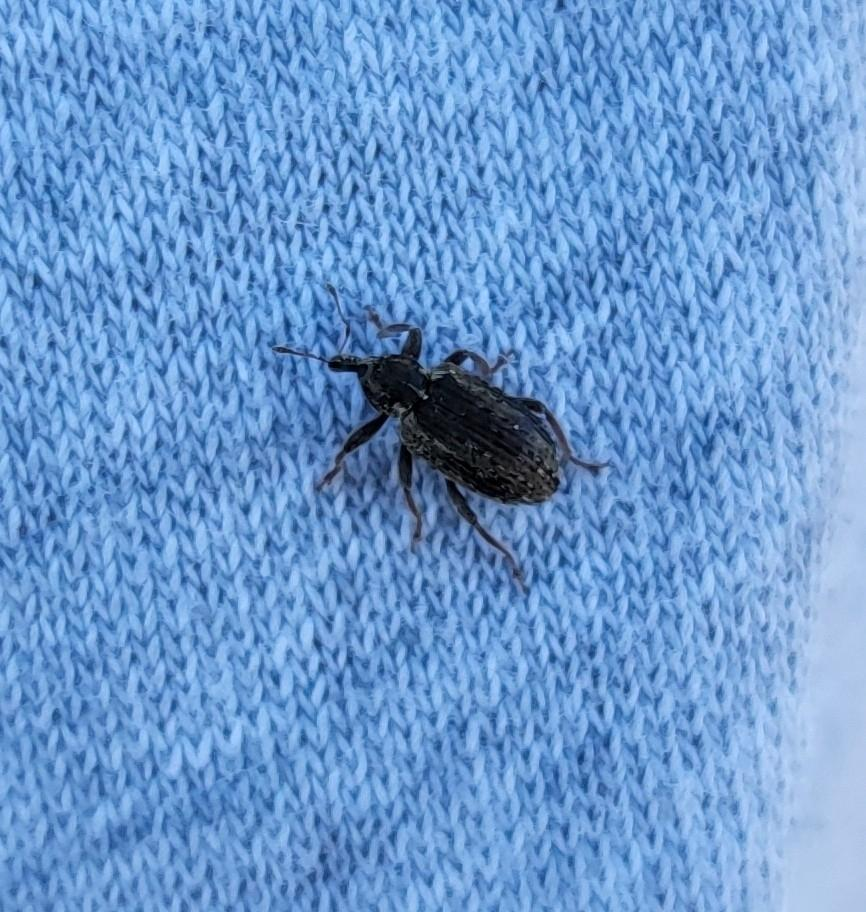weevils: (230, 246, 658, 621)
